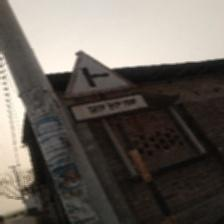Side-road-left: (64, 51, 136, 100)
